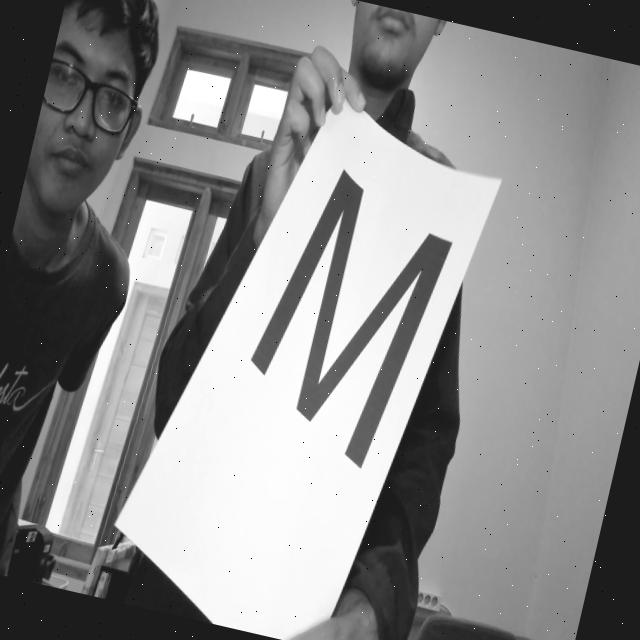m: (224, 140, 473, 492)
